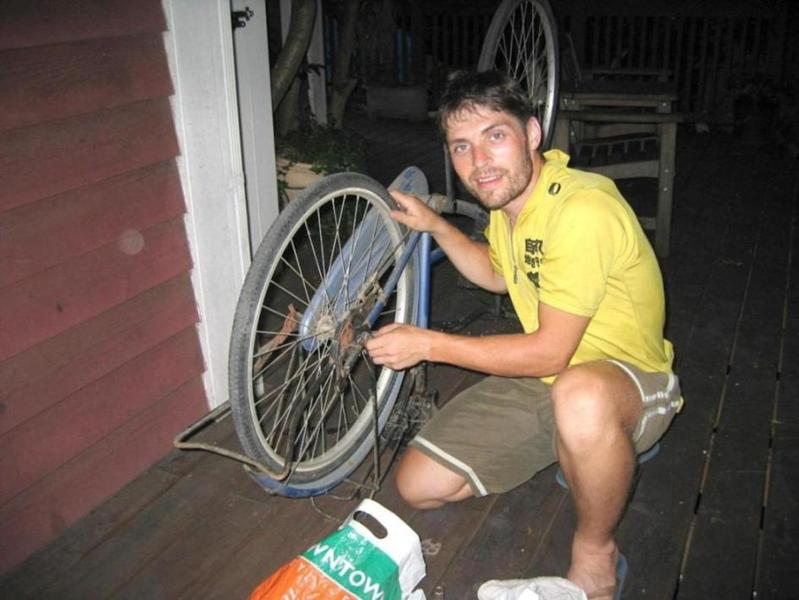person: (364, 69, 682, 599)
